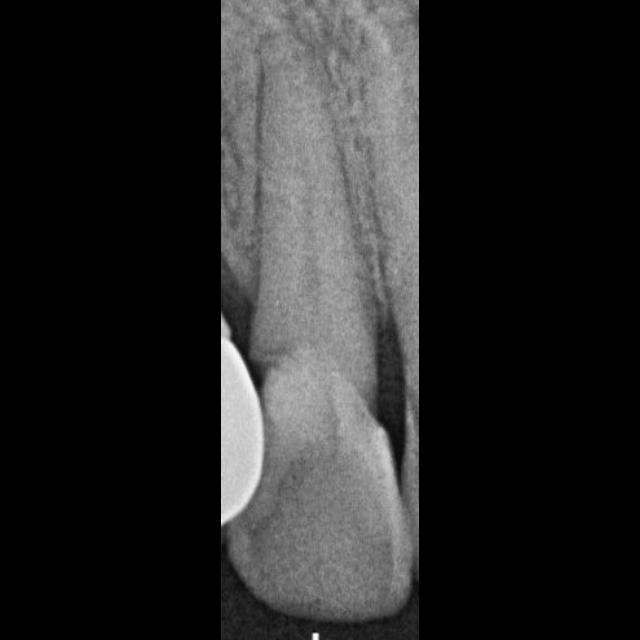tooth: (223, 29, 415, 622)
